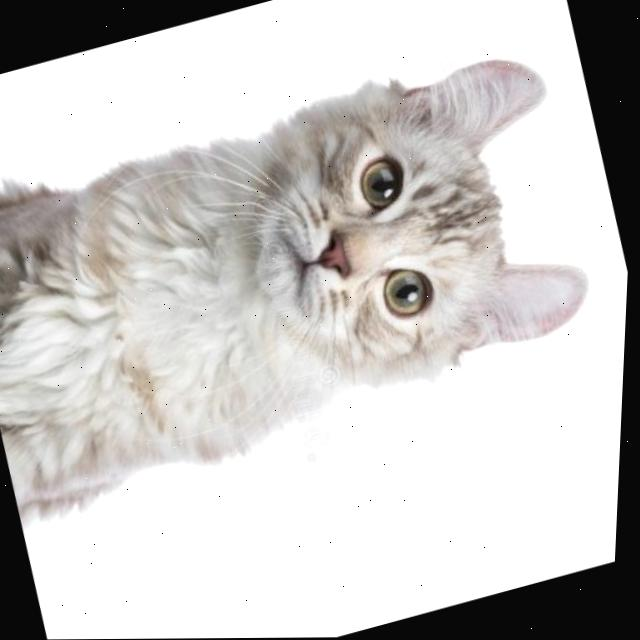American Curl: (0, 17, 637, 538)
